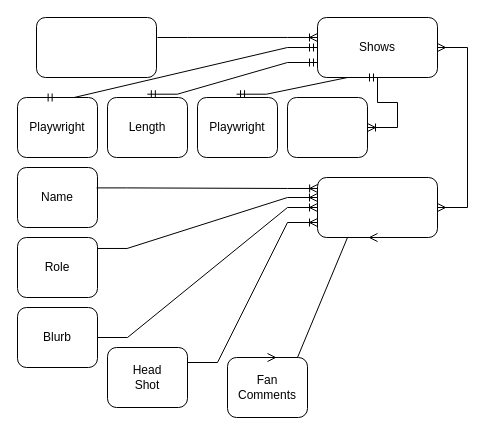
Image size: 494x435. Some labels were removed from this diagram. Here are the shapes that lost their labels. From the top down, the centre of each, then its label:
At (x=96, y=47): "Theater".
At (x=327, y=127): "[keywords]".
At (x=377, y=207): "Volunteers".
